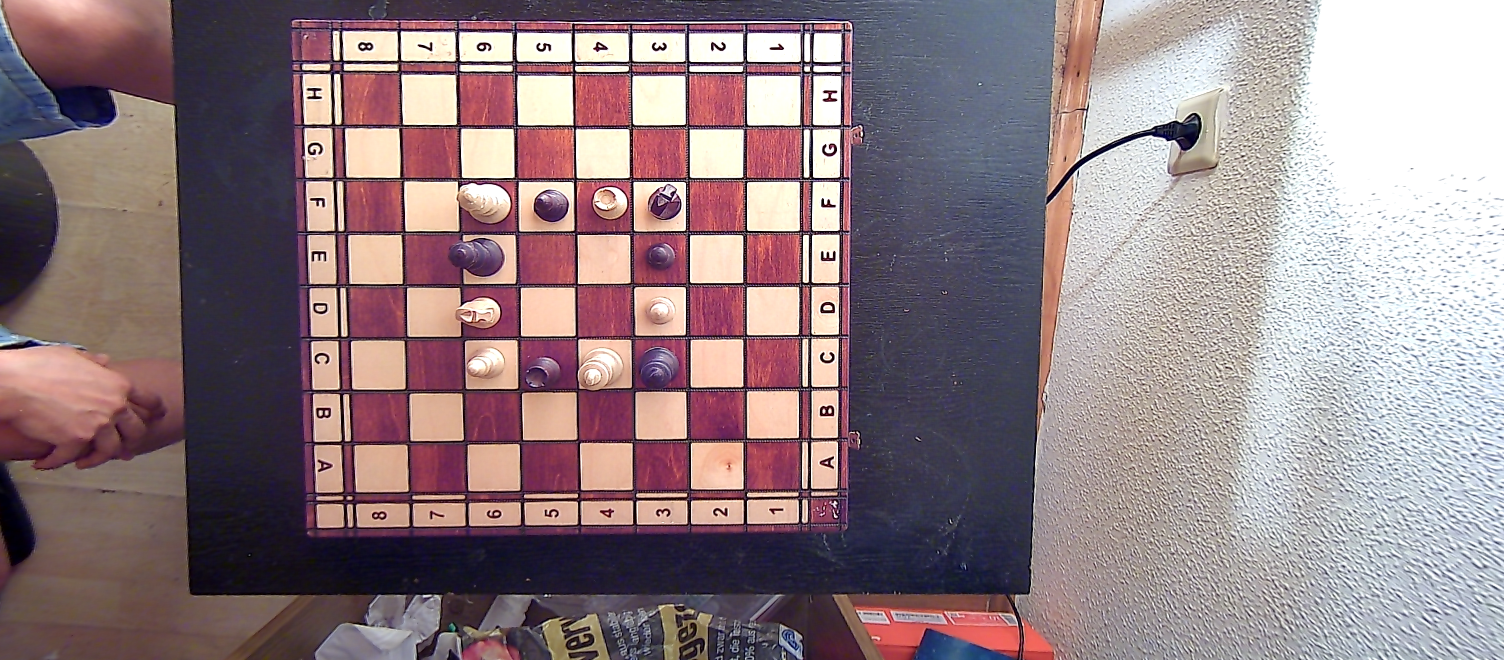black-bishop: (532, 185, 573, 227)
black-king: (635, 344, 680, 389)
black-knight: (645, 182, 683, 223)
black-pawn: (643, 238, 679, 275)
black-queen: (447, 236, 508, 277)
black-rook: (522, 353, 563, 392)
white-bishop: (465, 344, 507, 382)
white-king: (577, 346, 625, 393)
white-knight: (450, 291, 502, 333)
white-pawn: (642, 292, 677, 328)
white-queen: (455, 178, 514, 224)
white-rook: (589, 183, 628, 224)
